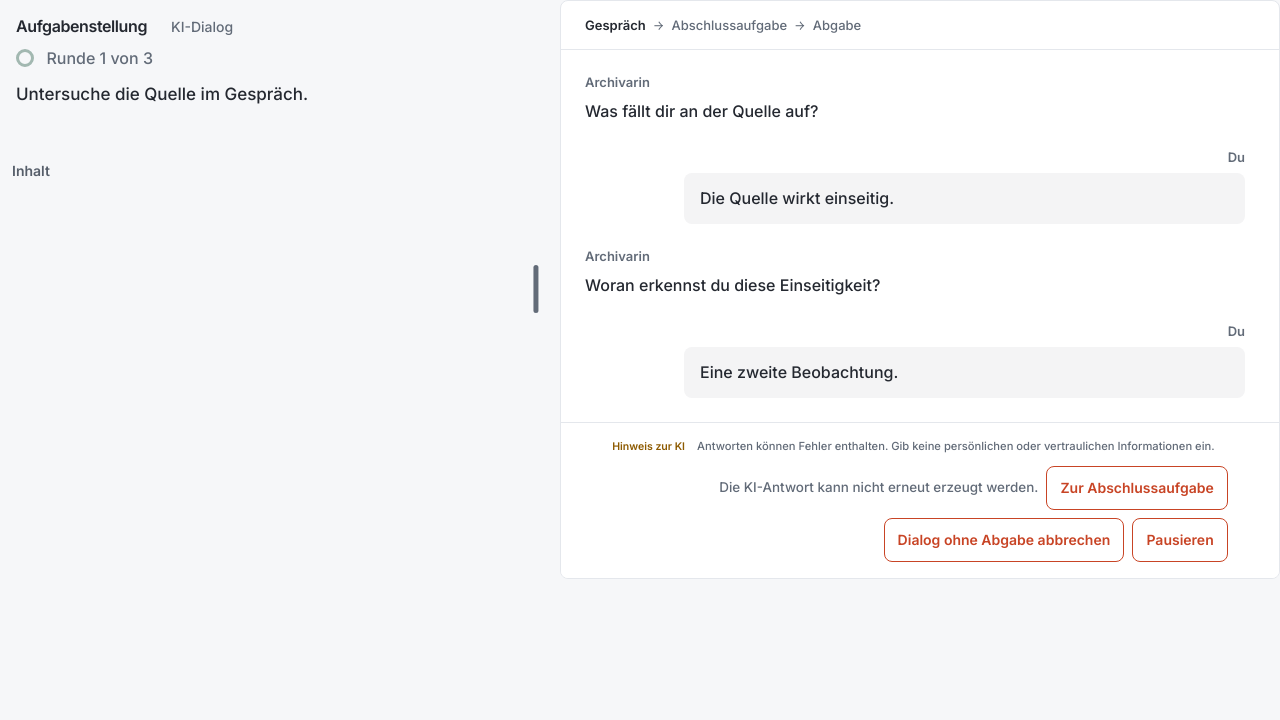
Test: LearningDialogWorkspace › removes the retry action after the third failed generation attempt
The width and height of the screenshot is (1280, 720).
Expected: the text "Die KI-Antwort kann nicht erneut erzeugt werden." is shown, left=719, top=478, right=1038, bottom=497
Expected: the button "Dialog ohne Abgabe abbrechen" is shown, left=884, top=518, right=1124, bottom=562
Click the button "Zur Abschlussaufgabe".
click(1137, 488)  # box left=1046, top=466, right=1228, bottom=510
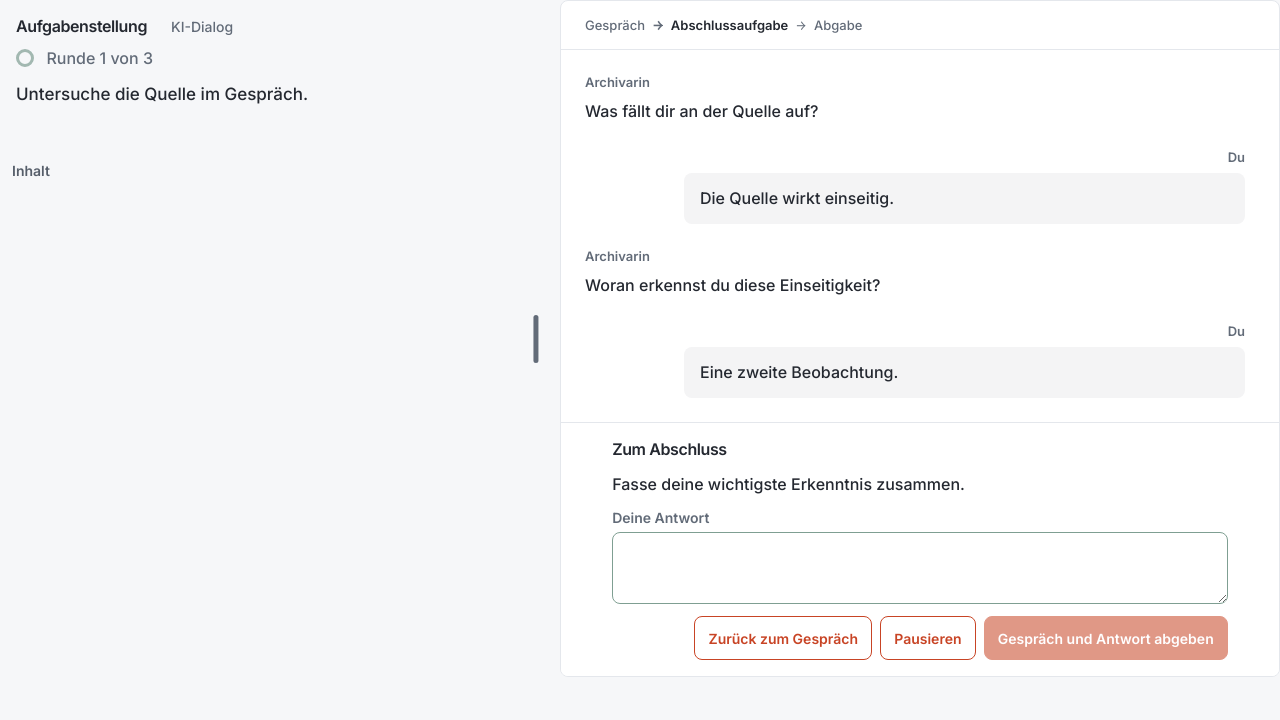
Now the element "Zum Abschluss" is shown, box left=561, top=422, right=1279, bottom=676
